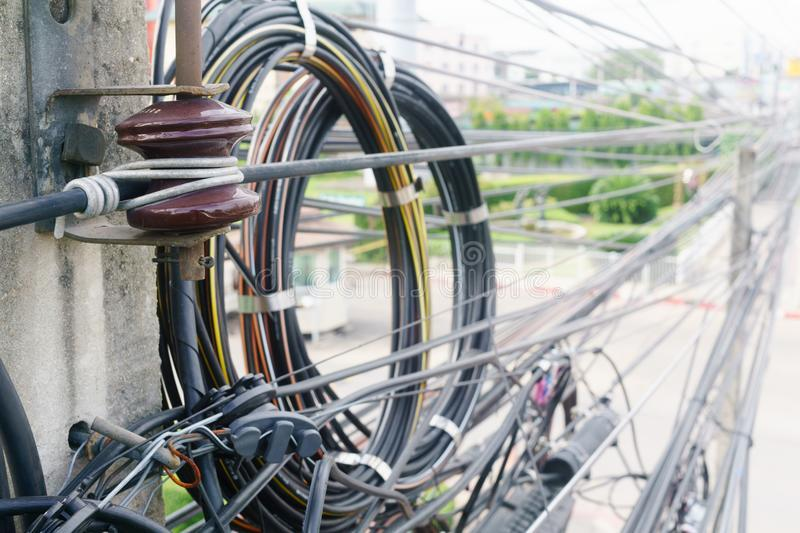wires: (169, 0, 657, 530)
